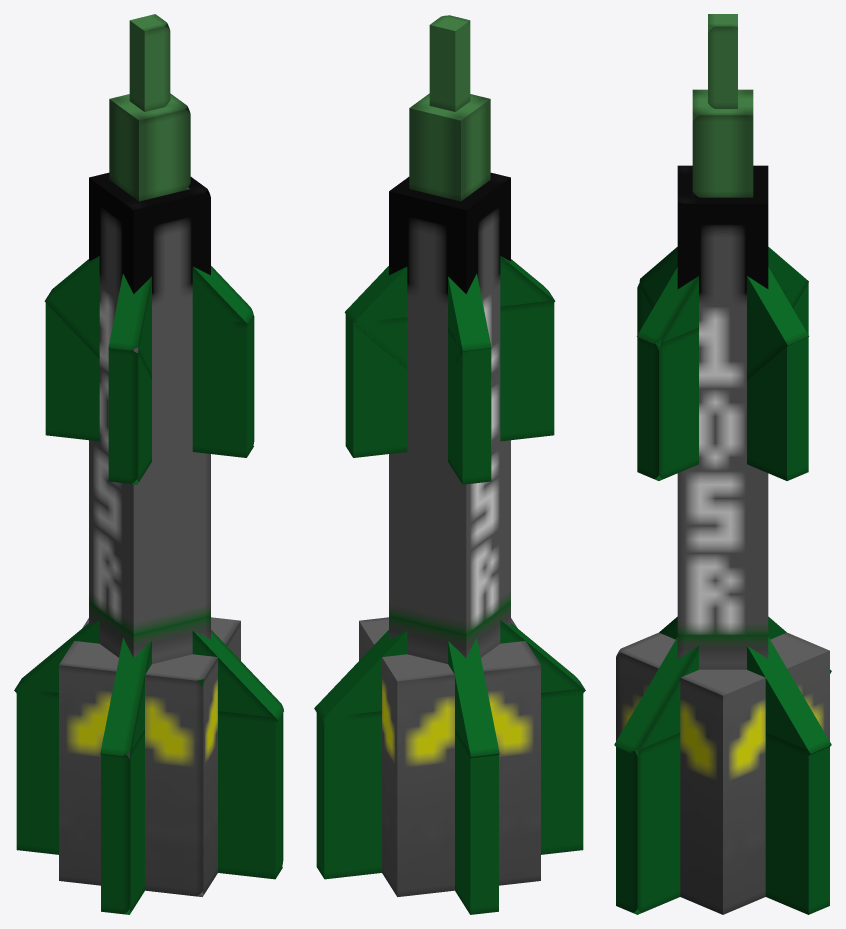
Rendered from missile_repulsive.obj.
3 renders of one model, left to right at view 1: azimuth 30°, elevation 25°; view 2: azimuth 150°, elevation 25°; view 3: azimuth 270°, elevation 25°, orthographic.
Parts seen in each view (by area): view 1: ShapeA, ShapeB, ShapeD, ShapeH, ShapeO, ShapeC, ShapeF, ShapeG, ShapeI, ShapeP, ShapeJ, ShapeE; view 2: ShapeA, ShapeB, ShapeC, ShapeG, ShapeO, ShapeD, ShapeH, ShapeE, ShapeJ, ShapeP, ShapeI, ShapeF; view 3: ShapeA, ShapeB, ShapeD, ShapeC, ShapeH, ShapeG, ShapeO, ShapeE, ShapeI, ShapeJ, ShapeF, ShapeP.
Part boxes in pixels (x1,y1,x2,y2): ShapeA: (89,172,210,663); ShapeB: (59,617,240,896); ShapeD: (16,688,283,879); ShapeH: (45,303,254,457); ShapeO: (109,93,190,201); ShapeC: (101,729,144,914); ShapeF: (44,256,253,369); ShapeG: (108,345,151,484); ShapeI: (14,620,283,722); ShapeP: (129,14,170,111); ShapeJ: (100,637,151,757); ShapeE: (108,273,151,379); ShapeA: (389,172,510,663); ShapeB: (359,617,540,896); ShapeC: (316,688,583,879); ShapeG: (345,300,554,457); ShapeO: (409,93,490,201); ShapeD: (455,729,498,914); ShapeH: (448,327,491,484); ShapeE: (344,256,555,368); ShapeJ: (314,620,585,722); ShapeP: (429,15,470,111); ShapeI: (448,637,499,758); ShapeF: (448,273,491,365); ShapeA: (677,165,768,669); ShapeB: (616,632,829,914); ShapeD: (616,733,680,914); ShapeC: (765,733,829,914); ShapeH: (637,283,808,480); ShapeG: (637,283,808,480); ShapeO: (692,89,753,197); ShapeE: (639,247,808,380); ShapeI: (614,616,831,756); ShapeJ: (659,616,831,755); ShapeF: (637,247,808,378); ShapeP: (708,14,737,108).
Size of the model in its own units: 0.9009 by 3.88 by 0.9009.
